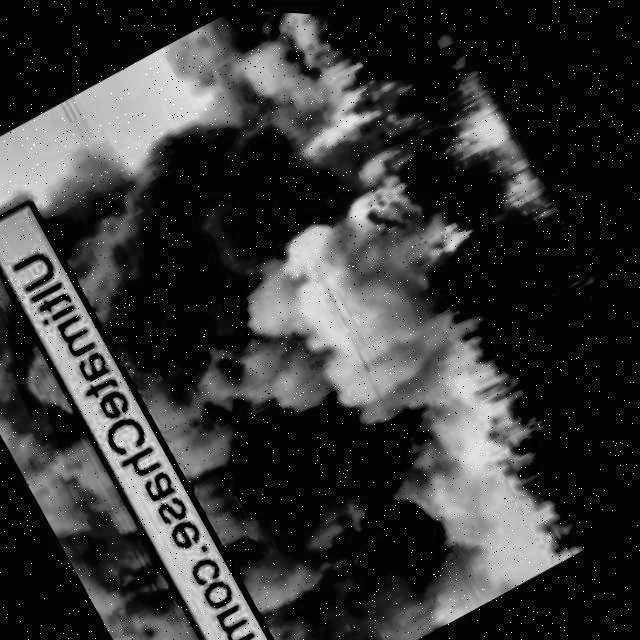Fire: (0, 19, 587, 640), (0, 275, 267, 640), (374, 90, 555, 270), (295, 96, 381, 169)
